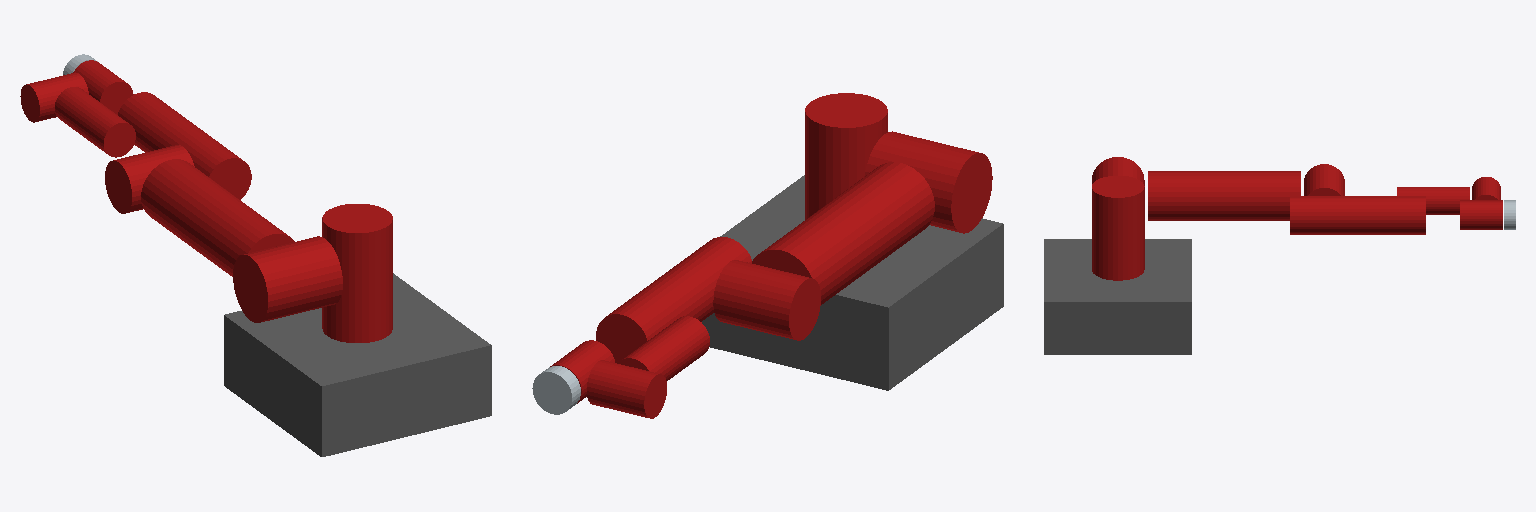
robot.urdf — mm_arm:
<?xml version="1.0" encoding="utf-8"?>
<robot name="mm_arm">
  <material name="grey">
    <color rgba="0.2 0.2 0.2 1.0"/>
  </material>
  <material name="mm_red">
    <color rgba="0.698039215686 0.133333333333 0.133333333333 1.0"/>
  </material>

  <!-- Base link -->
  <link name="base"/>
  <!-- Fixed joint to add dummy inertia link -->
  <joint name="world_to_arm_base" type="fixed">
    <parent link="base"/>
    <child link="arm_base"/>
    <origin rpy="0 0 0" xyz="0 0 0.2"/>
  </joint>
  <!-- Base link -->
  <link name="arm_base">
    <visual>
      <origin rpy="0 0 0" xyz="0 0 -0.1"/>
      <geometry>
        <box size="0.5 0.5 0.2"/>
      </geometry>
      <material name="gray">
        <color rgba="0.411764705882 0.411764705882 0.411764705882 1.0"/>
      </material>
    </visual>
    <collision>
      <origin rpy="0 0 0" xyz="0 0 -0.1"/>
      <geometry>
        <box size="0.5 0.5 0.2"/>
      </geometry>
    </collision>
  </link>
  <!-- Fixed joint to add dummy inertia link -->
  <joint name="arm_base_to_arm_base_inertia" type="fixed">
    <parent link="arm_base"/>
    <child link="arm_base_inertia"/>
    <origin rpy="0 0 0" xyz="0 0 0"/>
  </joint>
  <!-- Dummy inertia link, because KDL cannot have inertia on the base link -->
  <link name="arm_base_inertia">
    <inertial>
      <origin rpy="0 0 0" xyz="0.0 0.0 0.0648"/>
      <mass value="1000"/>
      <inertia ixx="0.00322" ixy="0.0" ixz="0.0" iyy="0.00322" iyz="0.0" izz="0.0023264"/>
    </inertial>
  </link>

  <!-- Arm components -->
  <!-- shoulder link -->
  <link name="SHOULDER">
    <visual>
      <origin rpy="0.0 0.0 0.0" xyz="0.0 0.0 -0.03"/>
      <geometry>
        <cylinder length="0.31" radius="0.09"/>
      </geometry>
      <material name="mm_red"/>
    </visual>
    <collision name="collision">
      <origin rpy="0.0 0.0 0.0" xyz="0.0 0.0 -0.03"/>
      <geometry>
        <cylinder length="0.31" radius="0.09"/>
      </geometry>
    </collision>
    <inertial>
      <origin rpy="0 0 0" xyz="-0.047924822 0.0 -0.002274739"/>
      <mass value="7.6494994"/>
      <inertia ixx="0.029999999" ixy="3.2869e-05" ixz="0.000721956" iyy="0.059745945" iyz="1.0358e-05" izz="0.056496362"/>
    </inertial>
  </link>
  <!-- Joint: SH_ROT -->
  <joint name="SH_ROT" type="revolute">
    <parent link="arm_base"/>
    <child link="SHOULDER"/>
    <origin rpy="0 0 0" xyz="0.0 0.0 0.189"/>
    <axis xyz="0 0 1"/>
    <limit effort="150.0" lower="-5.23598775598" upper="5.23598775598" velocity="1.308996939"/>
    <dynamics damping="0.1" friction="0.3"/>
  </joint>

  <!-- arm link -->
  <link name="ARM">
    <visual>
      <origin rpy="0.0 0.0 0.0" xyz="0.0 0.0 0.205"/>
      <geometry>
        <cylinder length="0.22" radius="0.09"/>
      </geometry>
      <material name="mm_red"/>
    </visual>
    <visual>
      <origin rpy="0.0 1.57079632679 0.0" xyz="0.36 0.0 0.195"/>
      <geometry>
        <cylinder length="0.52" radius="0.085"/>
      </geometry>
      <material name="mm_red"/>
    </visual>
    <visual>
      <origin rpy="0.0 0.0 0.0" xyz="0.7 0.0 0.205"/>
      <geometry>
        <cylinder length="0.19" radius="0.07"/>
      </geometry>
      <material name="mm_red"/>
    </visual>
    <collision name="collision_motor_1">
      <origin rpy="0.0 0.0 0.0" xyz="0.0 0.0 0.205"/>
      <geometry>
        <cylinder length="0.22" radius="0.09"/>
      </geometry>
    </collision>
    <collision name="collision_arm">
      <origin rpy="0.0 1.57079632679 0.0" xyz="0.36 0.0 0.195"/>
      <geometry>
        <cylinder length="0.52" radius="0.085"/>
      </geometry>
    </collision>
    <collision name="collision_motor_2">
      <origin rpy="0.0 0.0 0.0" xyz="0.7 0.0 0.205"/>
      <geometry>
        <cylinder length="0.19" radius="0.07"/>
      </geometry>
    </collision>
    <inertial>
      <origin rpy="0 0 0" xyz="0.29409722 0.0 0.19270522"/>
      <mass value="13.640494"/>
      <inertia ixx="0.060898243" ixy="-0.00013513623" ixz="-0.013074267" iyy="1.1757653" iyz="-2.6102602e-05" izz="1.1722998"/>
    </inertial>
  </link>
  <!-- Joint: SH_FLE -->
  <joint name="SH_FLE" type="revolute">
    <parent link="SHOULDER"/>
    <child link="ARM"/>
    <origin rpy="-1.57079632679 0 1.57079632679" xyz="0.0 0.0 0.0"/>
    <axis xyz="0 0 1"/>
    <limit effort="150.0" lower="-3.14159265359" upper="0.0" velocity="1.308996939"/>
    <dynamics damping="0.1" friction="0.3"/>
  </joint>
  <!-- Elbow link -->
  <link name="ELBOW">
    <visual>
      <origin rpy="0.0 1.57079632679 0.0" xyz="0.115 0.0 0.0"/>
      <geometry>
        <cylinder length="0.46" radius="0.066"/>
      </geometry>
      <material name="mm_red"/>
    </visual>
    <collision name="collision">
      <origin rpy="0.0 1.57079632679 0.0" xyz="0.115 0.0 0.0"/>
      <geometry>
        <cylinder length="0.46" radius="0.066"/>
      </geometry>
    </collision>
    <inertial>
      <origin rpy="0 0 0" xyz="-0.0045213596 -0.0001046407 0.035705904"/>
      <mass value="4.6480036"/>
      <inertia ixx="0.021549076" ixy="-2.5845846e-05" ixz="-0.00062888563" iyy="0.02331519" iyz="-3.1906253e-05" izz="0.011591539"/>
    </inertial>
  </link>
  <!-- Joint: EL_FLE -->
  <joint name="EL_FLE" type="revolute">
    <parent link="ARM"/>
    <child link="ELBOW"/>
    <origin rpy="0 0 0" xyz="0.7 0.0 0.04"/>
    <axis xyz="0 0 1"/>
    <limit effort="100.0" lower="-2.47836753783" upper="2.47836753783" velocity="2.53072741539"/>
    <dynamics damping="0.1" friction="0.2"/>
  </joint>
  <!-- Forearm link -->
  <link name="FOREARM">
    <visual>
      <origin rpy="0.0 0.0 0.0" xyz="0.0 0.115 0.37"/>
      <geometry>
        <cylinder length="0.25" radius="0.048"/>
      </geometry>
      <material name="mm_red"/>
    </visual>
    <visual>
      <origin rpy="1.57079632679 0.0 0.0" xyz="0.0 0.13 0.55"/>
      <geometry>
        <cylinder length="0.145" radius="0.05"/>
      </geometry>
      <material name="mm_red"/>
    </visual>
    <collision name="collision_farm">
      <origin rpy="0.0 0.0 0.0" xyz="0.0 0.115 0.37"/>
      <geometry>
        <cylinder length="0.25" radius="0.048"/>
      </geometry>
    </collision>
    <collision name="collision_motor">
      <origin rpy="1.57079632679 0.0 0.0" xyz="0.0 0.13 0.55"/>
      <geometry>
        <cylinder length="0.145" radius="0.05"/>
      </geometry>
    </collision>
    <inertial>
      <origin rpy="0 0 0" xyz="-0.00051024005 0.047442921 0.27441632"/>
      <mass value="5.7271652"/>
      <inertia ixx="0.24731453" ixy="-0.00015557711" ixz="-0.0003643398" iyy="0.2306736" iyz="-0.05673063" izz="0.029585235"/>
    </inertial>
  </link>
  <!-- Joint: EL_ROT -->
  <joint name="EL_ROT" type="revolute">
    <parent link="ELBOW"/>
    <child link="FOREARM"/>
    <origin rpy="1.57079632679 0 1.57079632679" xyz="0.0 0.0 0.0"/>
    <axis xyz="0 0 1"/>
    <limit effort="40.0" lower="-5.23598775598" upper="5.23598775598" velocity="2.53072741539"/>
    <dynamics damping="0.1" friction="0.2"/>
  </joint>
  <!-- wrist1 link -->
  <link name="WRIST_1">
    <visual>
      <origin rpy="1.57079632679 0.0 0.0" xyz="0.0 0.016 0.0"/>
      <geometry>
        <cylinder length="0.148" radius="0.05"/>
      </geometry>
      <material name="mm_red"/>
    </visual>
    <collision name="collision">
      <origin rpy="1.57079632679 0.0 0.0" xyz="0.0 0.016 0.0"/>
      <geometry>
        <cylinder length="0.148" radius="0.05"/>
      </geometry>
    </collision>
    <inertial>
      <origin rpy="0 0 0" xyz="0.0 0.0 0.0"/>
      <mass value="1.9710281"/>
      <inertia ixx="0.0066945672" ixy="4.5275e-06" ixz="-7.5009e-06" iyy="0.0055642118" iyz="0.0003509941" izz="0.0038716147"/>
    </inertial>
  </link>
  <!-- Joint: WR_FLE -->
  <joint name="WR_FLE" type="revolute">
    <parent link="FOREARM"/>
    <child link="WRIST_1"/>
    <origin rpy="-1.57079632679 0 0" xyz="0.0 0.0 0.55"/>
    <axis xyz="0 0 1"/>
    <limit effort="40.0" lower="-2.39110107523" upper="2.39110107523" velocity="4.79965544298"/>
    <dynamics damping="0.1" friction="0.1"/>
  </joint>
  <!-- Wrist2 link -->
  <link name="WRIST_2">
    <visual>
      <origin rpy="0.0 0.0 0.0" xyz="0.0 0.0 -0.02"/>
      <geometry>
        <cylinder length="0.038" radius="0.05"/>
      </geometry>Z
      <material name="silver">
        <color rgba="0.737254901961 0.776470588235 0.8 1.0"/>
      </material>
    </visual>
    <collision name="collision">
      <origin rpy="0.0 0.0 0.0" xyz="0.0 0.0 -0.02"/>
      <geometry>
        <cylinder length="0.038" radius="0.05"/>
      </geometry>
    </collision>
    <inertial>
      <origin rpy="0 0 0" xyz="-0.00038203947 -0.0019245031 -0.03"/>
      <mass value="1.7057686"/>
      <inertia ixx="0.0046630423" ixy="-1.6647842e-07" ixz="-2.5100296e-05" iyy="0.0046335717" iyz="4.8450275e-05" izz="0.002284043"/>
    </inertial>
  </link>
  <!-- Joint: WR_ROT -->
  <joint name="WR_ROT" type="revolute">
    <parent link="WRIST_1"/>
    <child link="WRIST_2"/>
    <origin rpy="1.57079632679 0 0" xyz="0.0 -0.1 0.0"/>
    <axis xyz="0 0 1"/>
    <limit effort="40.0" lower="-3.14159265359" upper="3.14159265359" velocity="4.79965544298"/>
    <dynamics damping="0.1" friction="0.1"/>
  </joint>
</robot>

--- Facts derived from the render (not from the file) ---
The picture shows the robot from 3 angles, left to right: view 1: azimuth 30°, elevation 25°; view 2: azimuth 150°, elevation 25°; view 3: azimuth 270°, elevation 25°; orthographic projection.
Model mm_arm with 9 links and 8 joints (6 revolute, 2 fixed), rooted at base, posed all joints at 0.
Links seen in each view (by area): view 1: arm_base, ARM, SHOULDER, ELBOW, FOREARM, WRIST_1; view 2: arm_base, ARM, ELBOW, SHOULDER, FOREARM, WRIST_2, WRIST_1; view 3: arm_base, ARM, SHOULDER, ELBOW, FOREARM, WRIST_1.
Link boxes in pixels (box(x1,y1,x2,y2)): arm_base: box(224, 273, 491, 456); ARM: box(105, 145, 342, 322); SHOULDER: box(322, 204, 392, 342); ELBOW: box(118, 92, 251, 199); FOREARM: box(20, 72, 135, 157); WRIST_1: box(73, 60, 133, 114); arm_base: box(702, 175, 1003, 390); ARM: box(713, 131, 992, 340); ELBOW: box(596, 237, 751, 363); SHOULDER: box(805, 93, 887, 219); FOREARM: box(587, 316, 709, 418); WRIST_2: box(532, 366, 580, 414); WRIST_1: box(550, 340, 614, 403); arm_base: box(1044, 239, 1191, 354); ARM: box(1092, 157, 1344, 220); SHOULDER: box(1092, 176, 1144, 280); ELBOW: box(1290, 196, 1425, 234); FOREARM: box(1397, 177, 1500, 214); WRIST_1: box(1460, 200, 1502, 229).
Bounding box of the posed robot: 0.565 × 1.6 × 0.514 m (x, y, z).
Geometry: primitives only (box / cylinder / sphere), no mesh files.